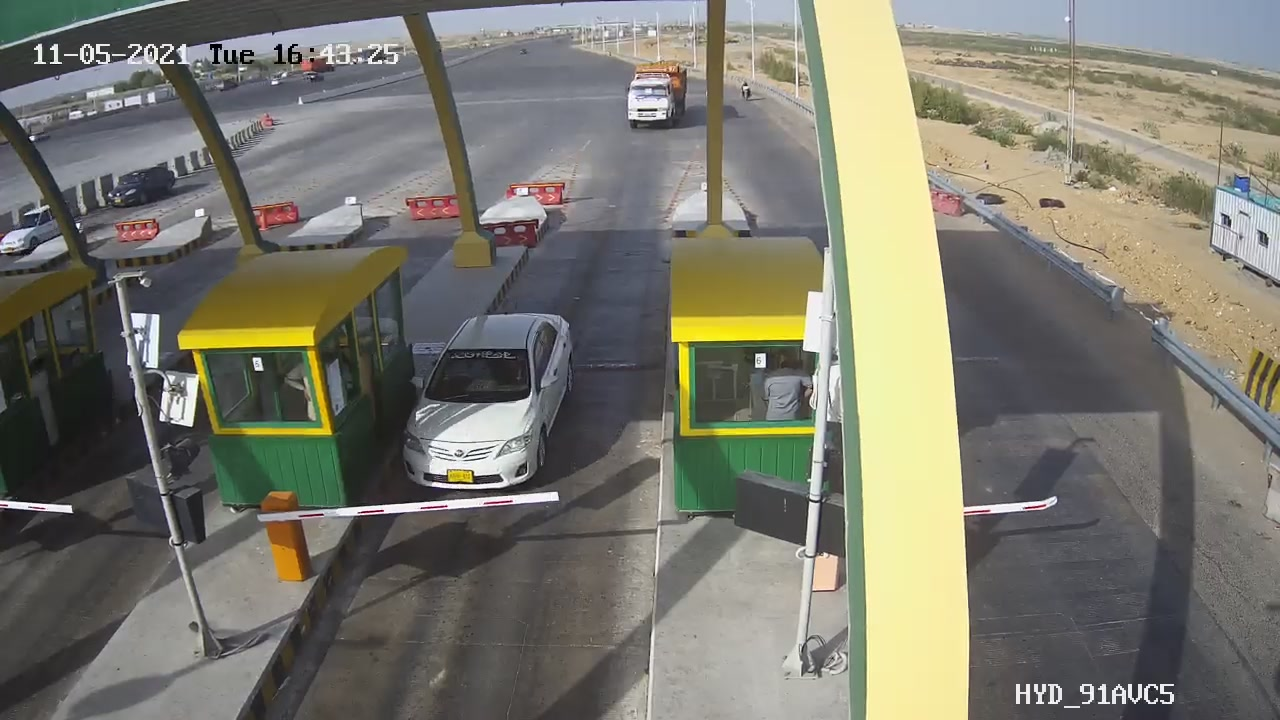F1: (379, 298, 597, 511)
